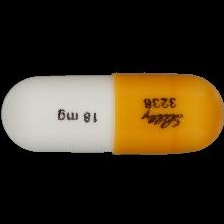0002-3238: (0, 0, 224, 224)
